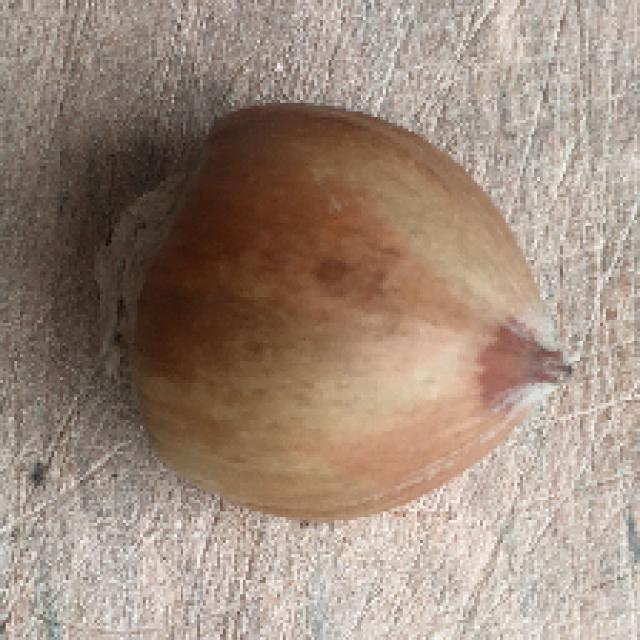DamagedHazelnut: (84, 105, 574, 516)
